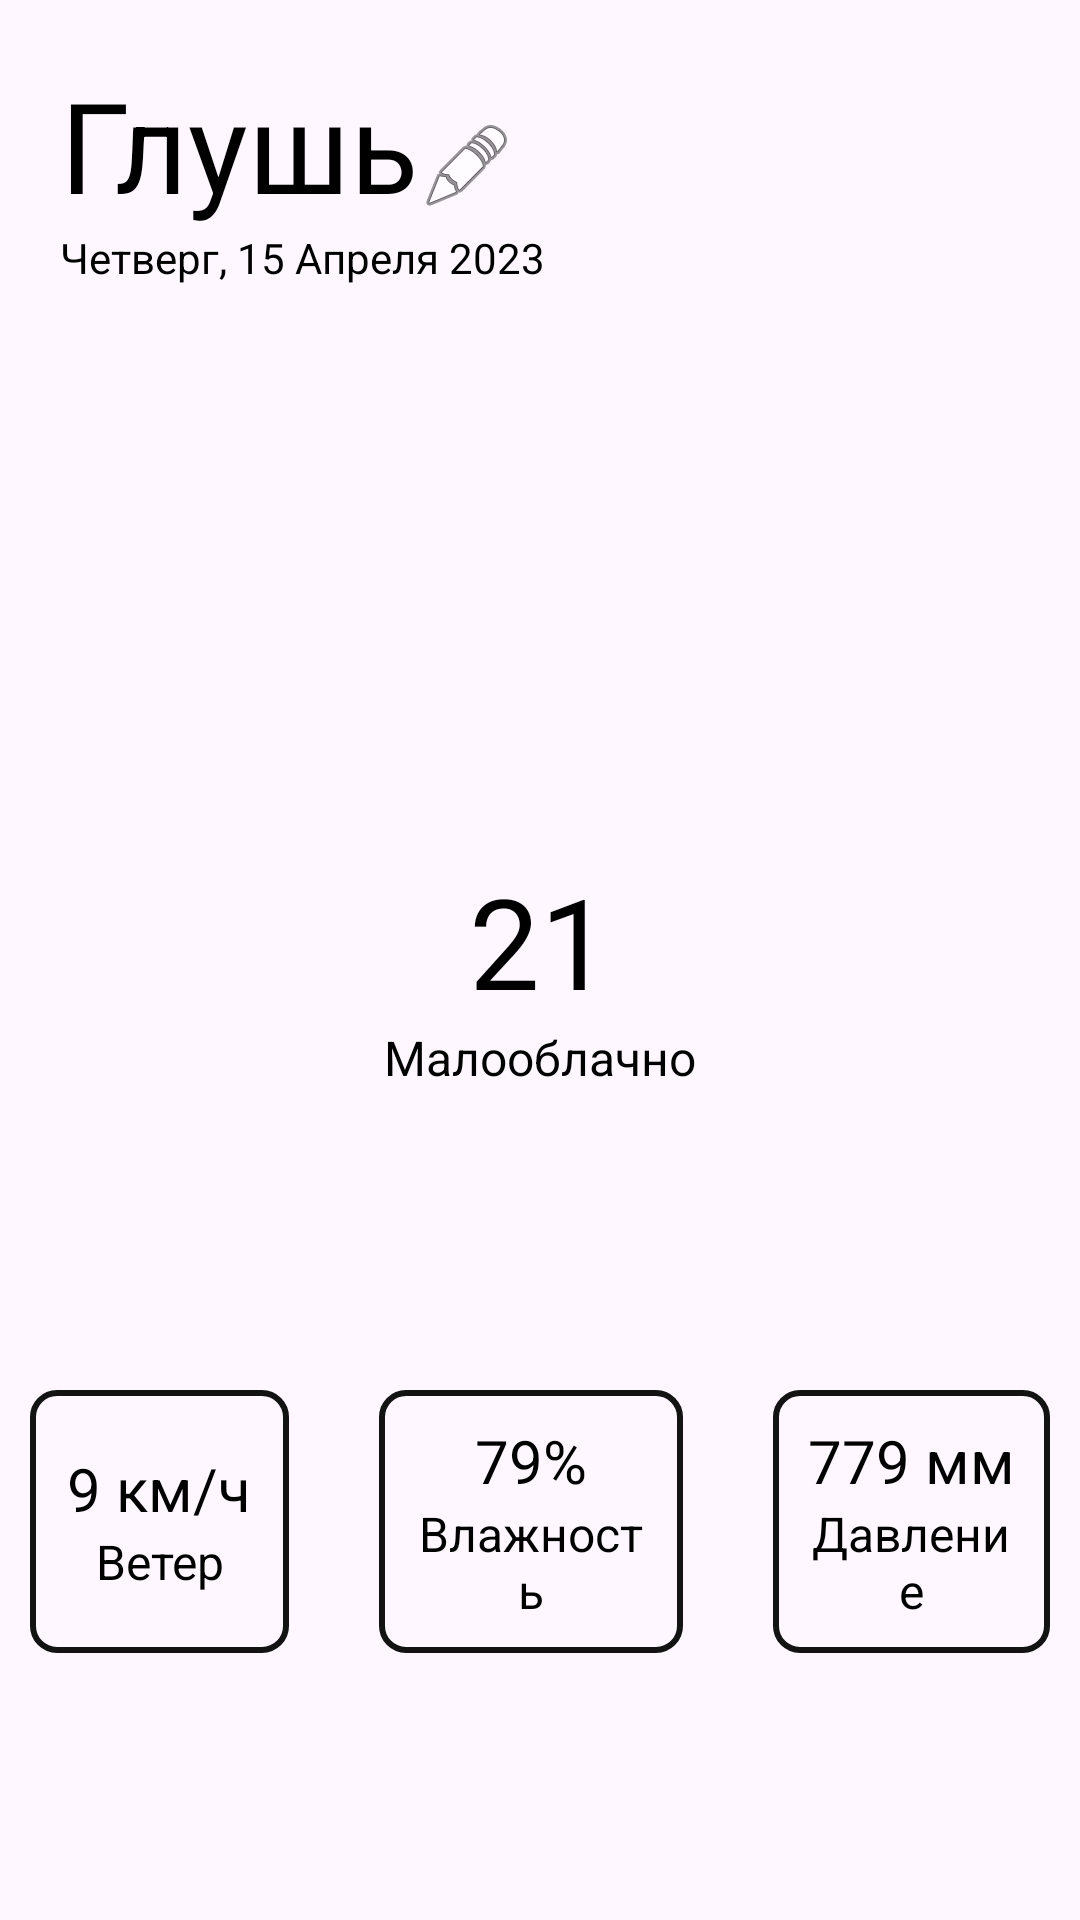

Where to tap for icons on this 1080w x 1920h app screen, as [x,y]:
edit: [466,165]
